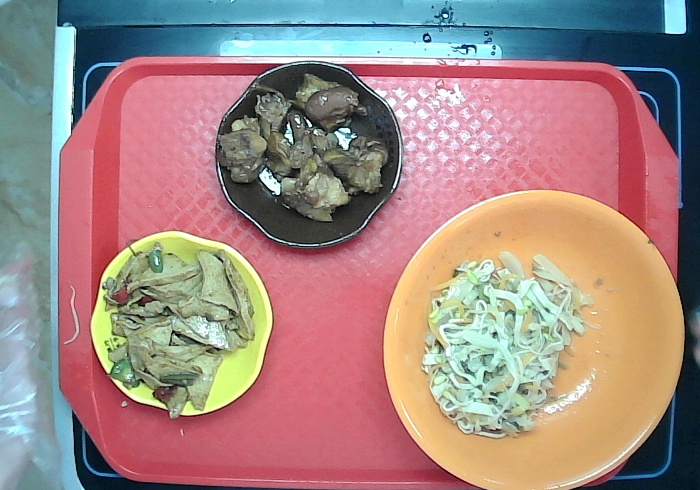YKMZ-Huang_Se_Ao_Bian_Wan: (86, 228, 277, 420)
YKMZ-Ju_Se_Tang_Wan: (382, 187, 687, 490)
YKMZ-Ka_Fei_Ao_Bian_Wan: (213, 59, 402, 252)
